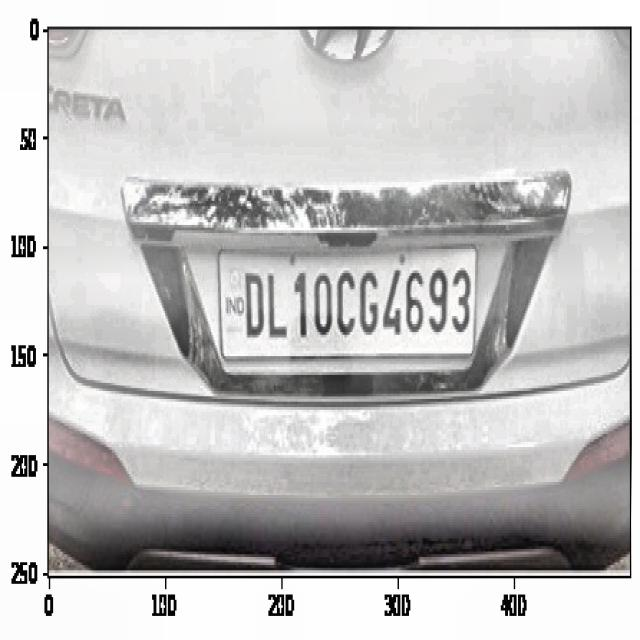license_plate: (234, 255, 476, 354)
